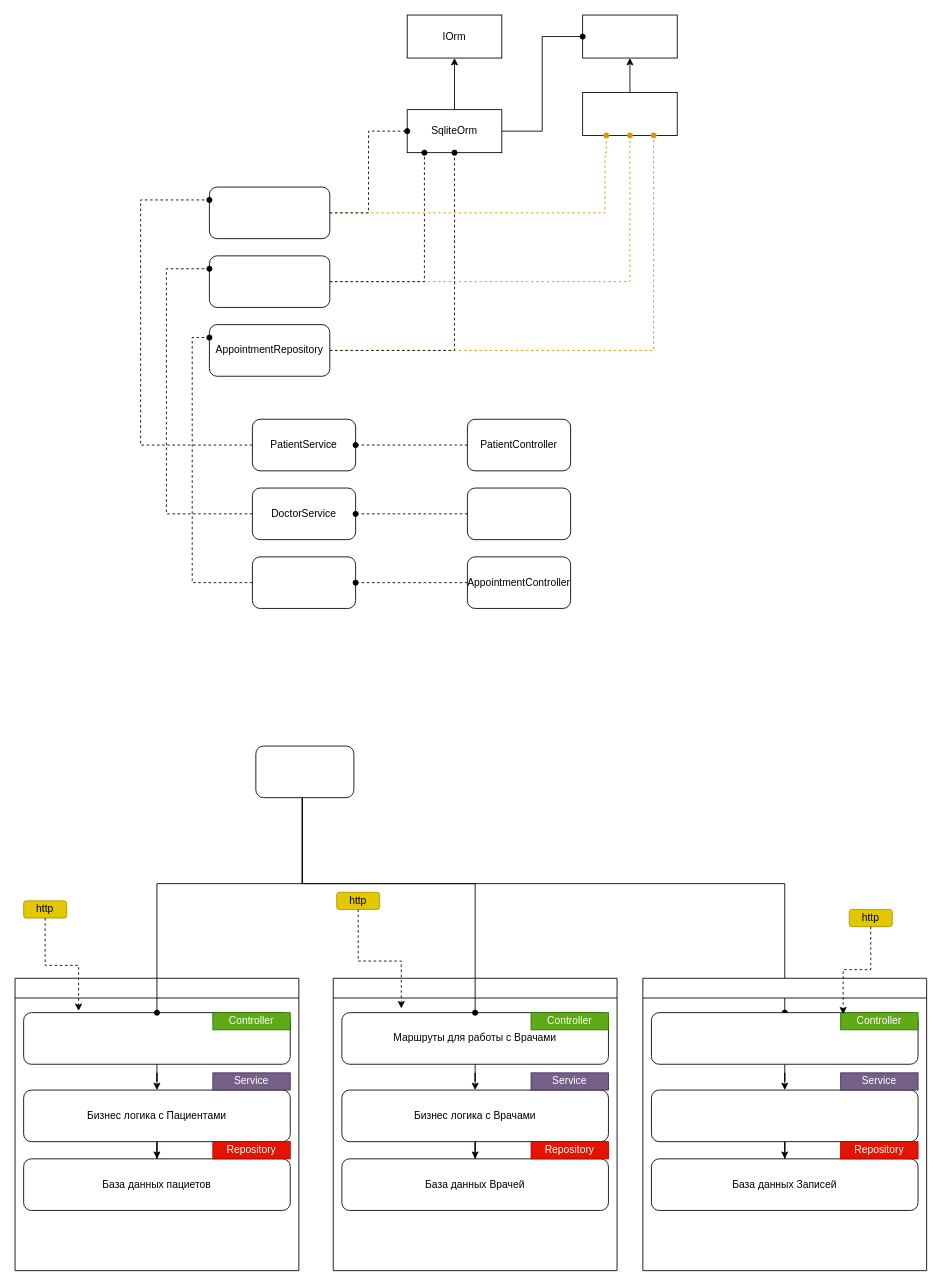
Image size: 942x1286. Some labels were removed from this diagram. The box of each missing label's shape, as (x1, y1, x2, y2) in pixels:
Appointment: (642, 977, 927, 1271)
AppointmentService: (252, 556, 356, 608)
ClinicApp: (255, 745, 354, 798)
DoctorController: (467, 487, 571, 540)
DoctorRepository: (209, 255, 330, 307)
Doctors: (332, 977, 617, 1271)
IEntity: (582, 14, 677, 58)
PatientRepository: (209, 186, 330, 239)
patients: (14, 977, 299, 1271)
SqliteEntity: (582, 92, 677, 135)
Запись пациентов к врачам: (651, 1089, 918, 1142)
Маршруты для работы с Записями: (651, 1012, 918, 1064)
Маршруты для работы с пациентами: (23, 1012, 290, 1064)
